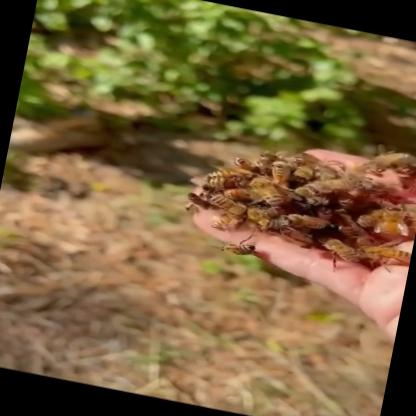bee: (176, 133, 416, 265), (202, 233, 312, 270), (345, 144, 416, 195)
